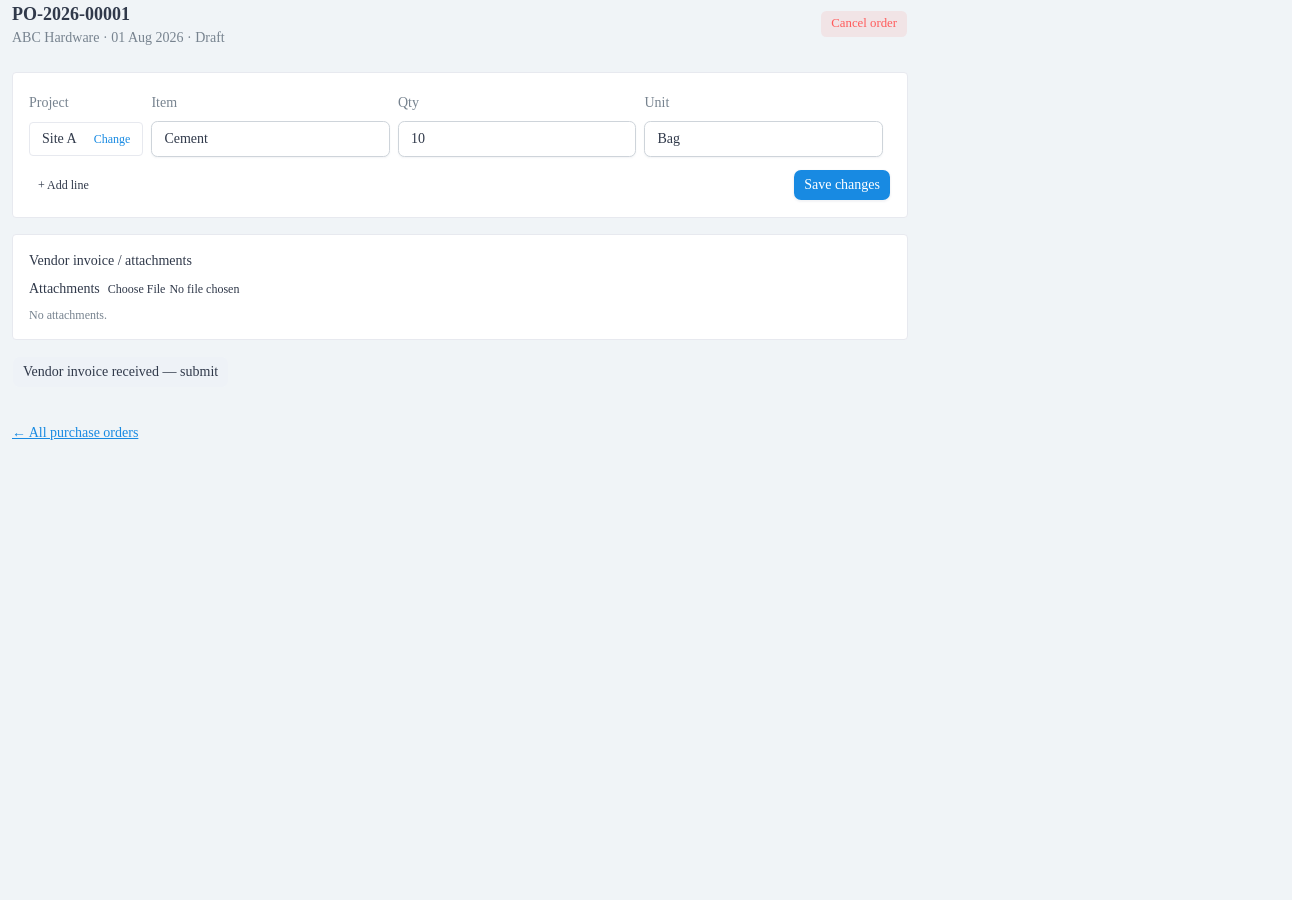
Test case: PurchaseOrderDetailPage › Draft_ShowsEditableLinesAndRevealsSubmitForm
Expected: the text with test id "po-status" reads "Draft", [195,30,225,45]
Expected: the field named "itemName 1" holds "Cement", [151,121,390,157]
Click the button "Vendor invoice received — submit".
click(121, 372)  # box [12,356,229,388]
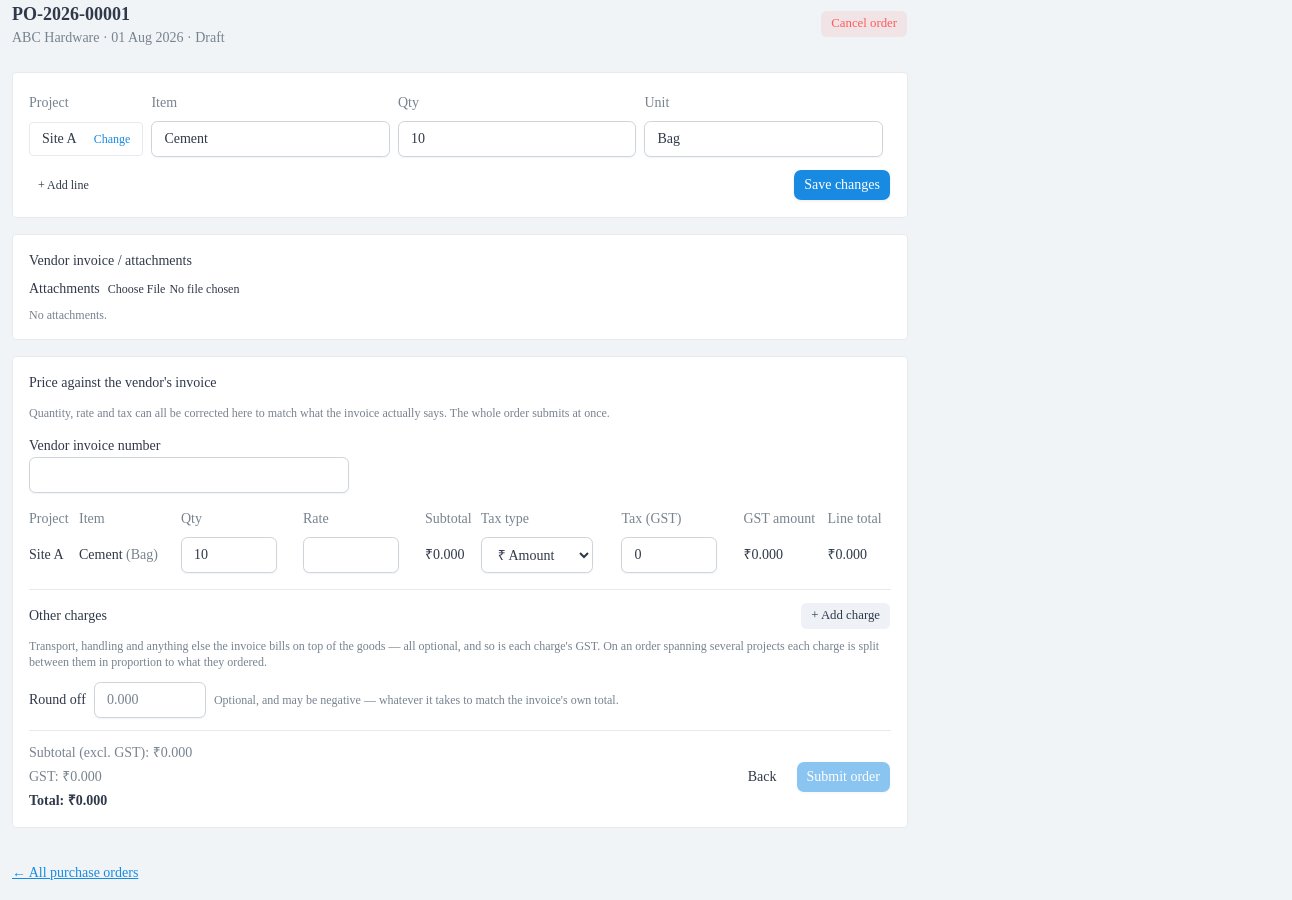
Expected: the field labelled "Vendor invoice number" is shown, [29,457,349,493]
Expected: the field named "rate 1" is shown, [303,537,399,573]
Expected: the field named "taxValue 1" is shown, [621,537,717,573]
